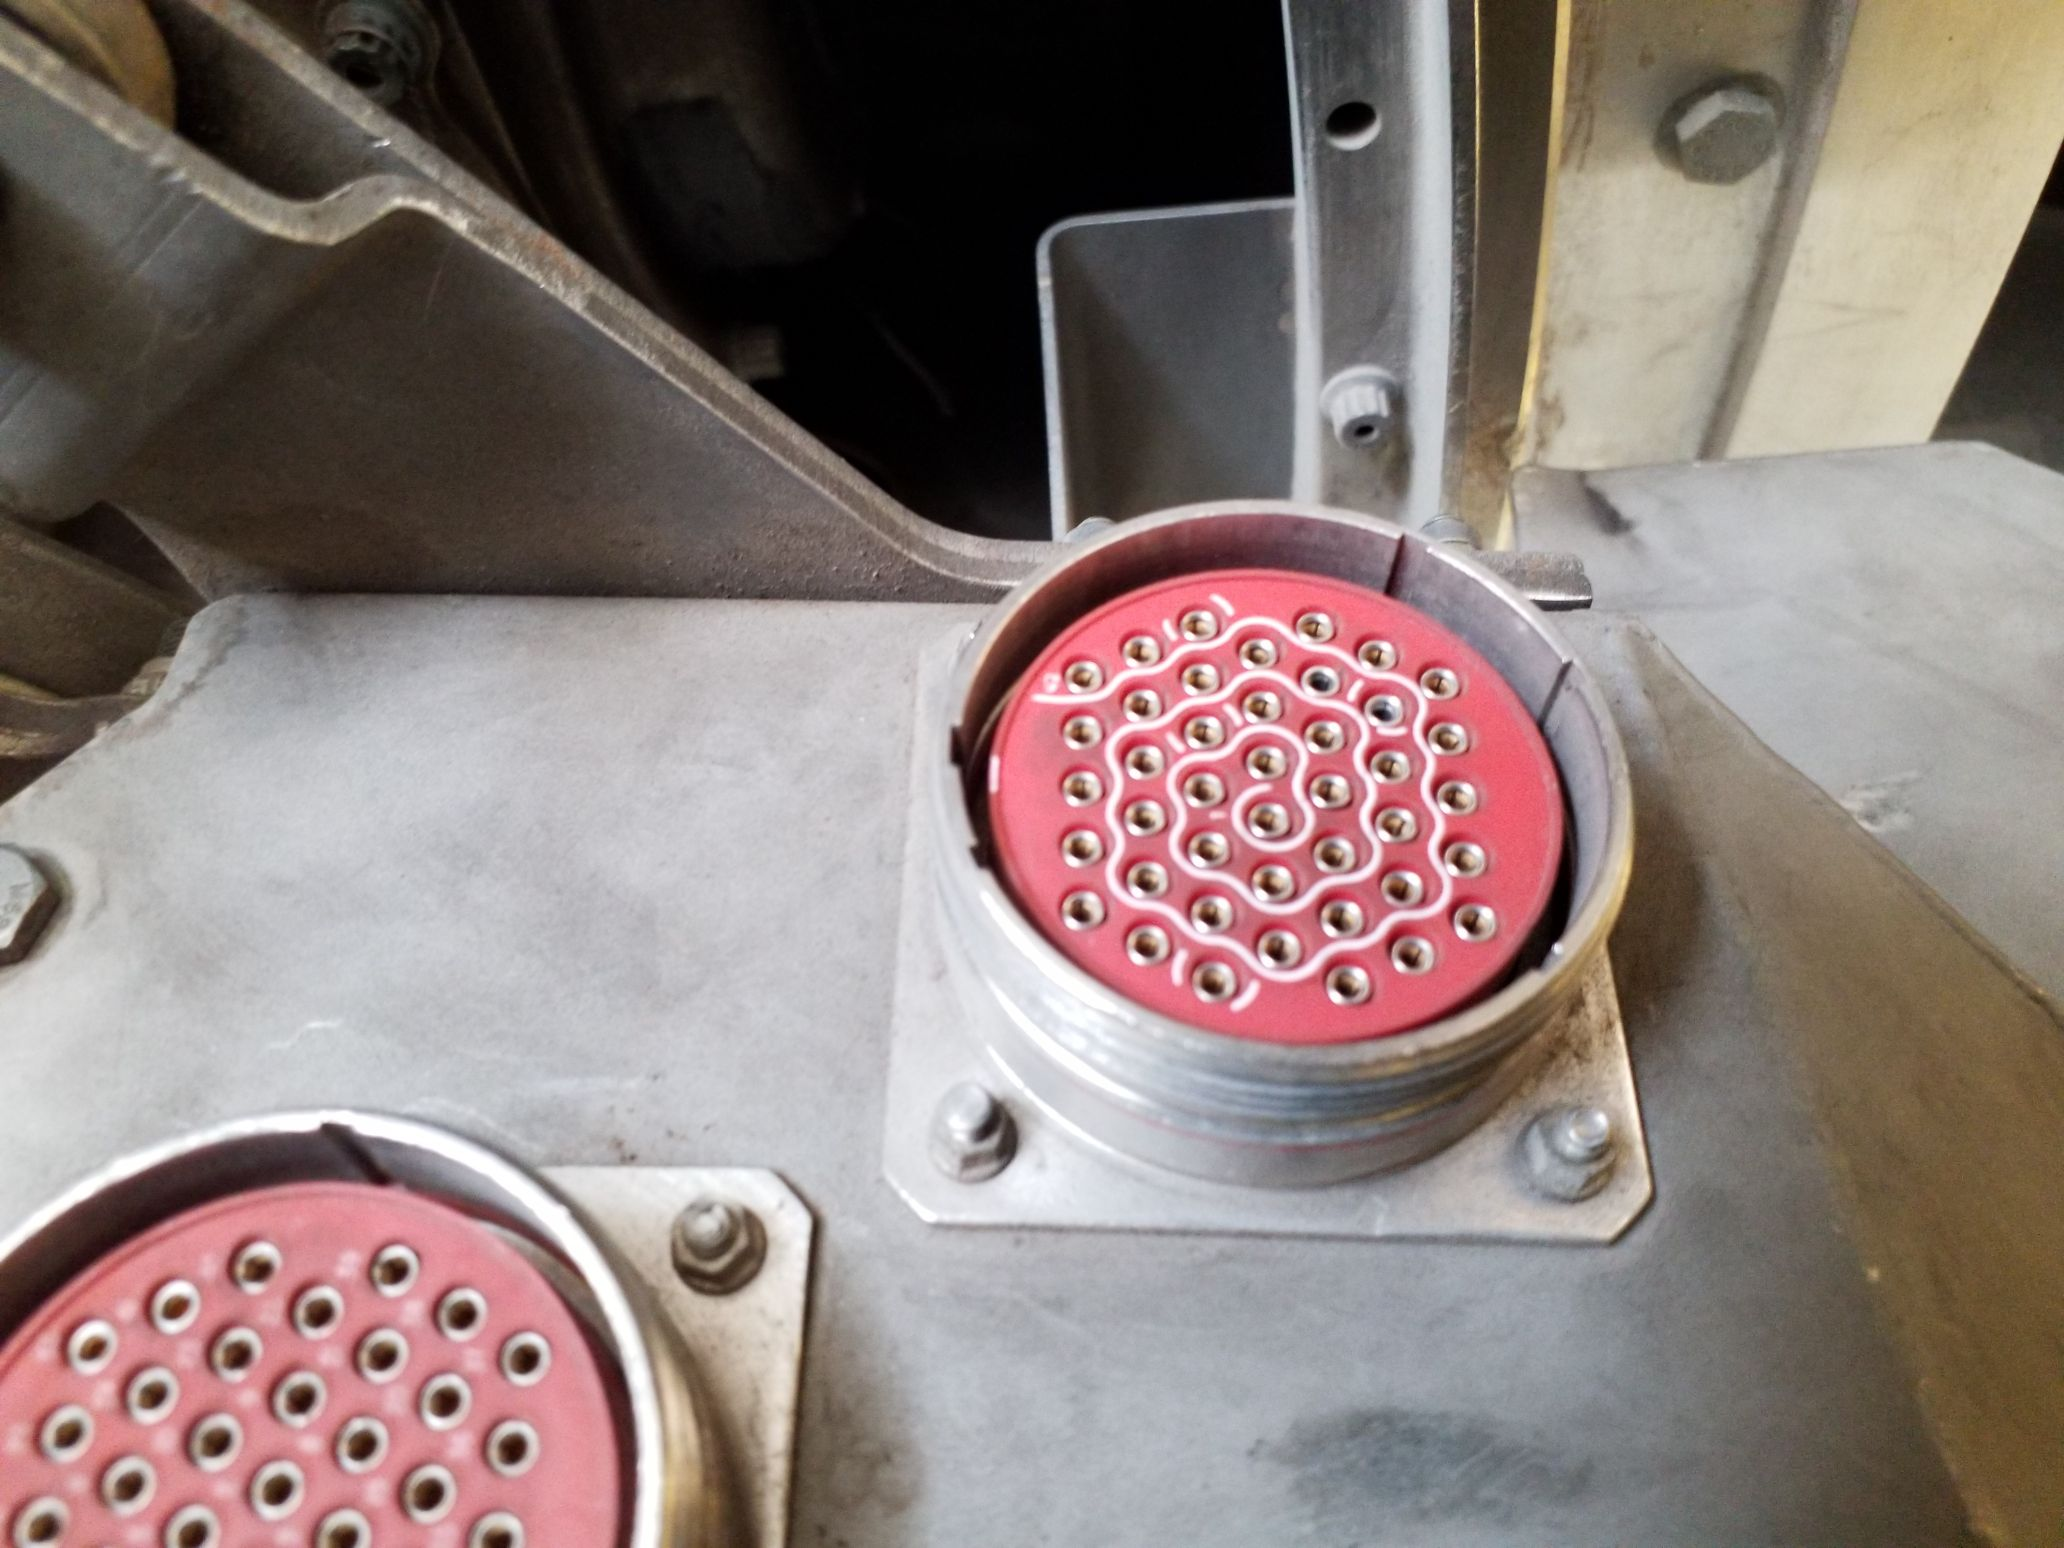inletround: (921, 483, 1654, 1143)
